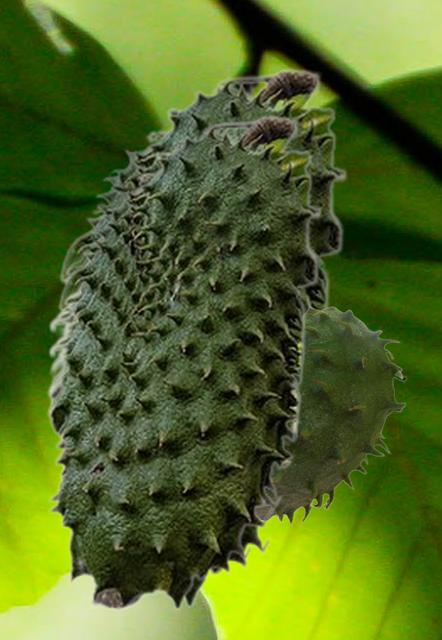guyabano: (45, 67, 346, 609), (45, 114, 321, 611), (257, 306, 406, 525)
